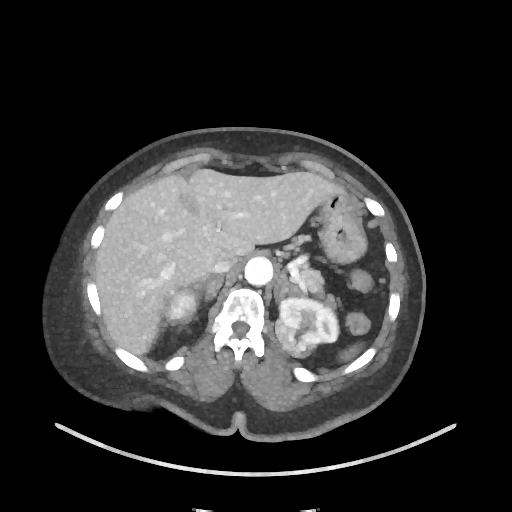Lesion: (273, 318, 314, 361)
